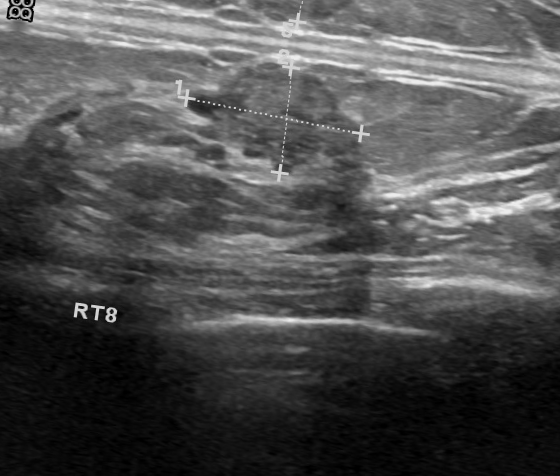Benign: (190, 62, 358, 170)
Malignant: (189, 61, 356, 172)
